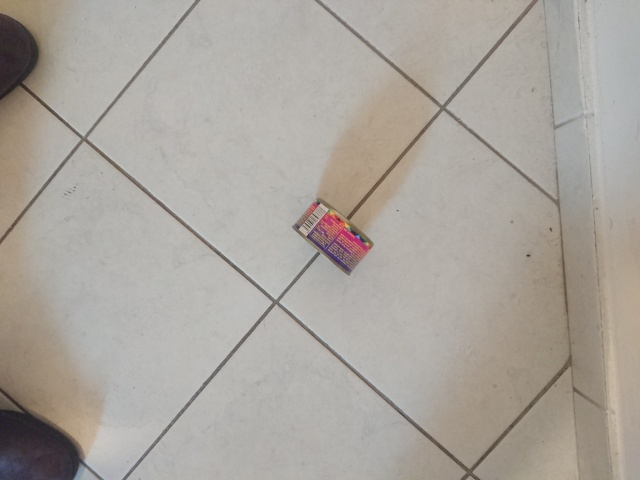Giana Tuna Salad Mexico 185g: (290, 195, 376, 278)
